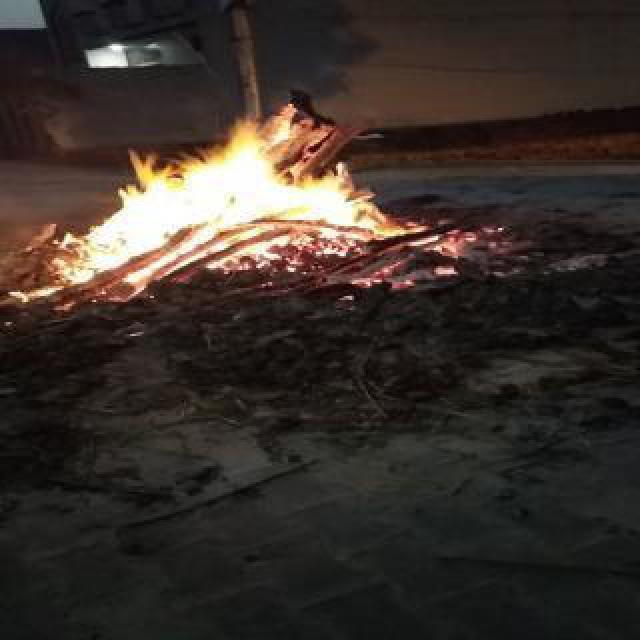Fire: (20, 102, 418, 292)
